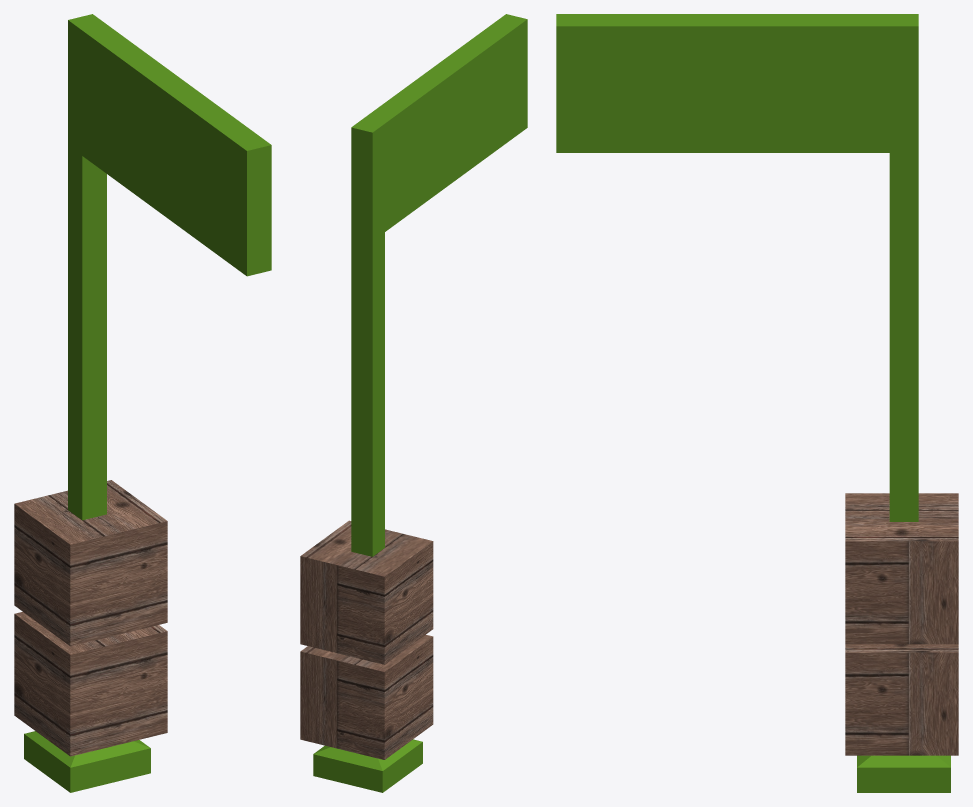
The picture shows the model from 3 angles, left to right: view 1: azimuth 30°, elevation 25°; view 2: azimuth 150°, elevation 25°; view 3: azimuth 270°, elevation 25°; orthographic projection. The views are drawn at different scales.
Visible parts, largest first — view 1: Semaphore, Cube.001, Cube; view 2: Semaphore, Cube.001, Cube; view 3: Semaphore, Cube.001, Cube.
Part boxes in pixels (x1=…): Semaphore: x1=24, y1=14, x2=271, y2=792; Cube.001: x1=14, y1=480, x2=167, y2=646; Cube: x1=14, y1=611, x2=167, y2=756; Semaphore: x1=313, y1=14, x2=527, y2=792; Cube.001: x1=300, y1=520, x2=433, y2=664; Cube: x1=300, y1=635, x2=433, y2=759; Semaphore: x1=556, y1=14, x2=950, y2=792; Cube.001: x1=845, y1=493, x2=958, y2=644; Cube: x1=845, y1=644, x2=958, y2=755.
Size of the model in its own units: 7.26 by 53.06 by 25.71.
